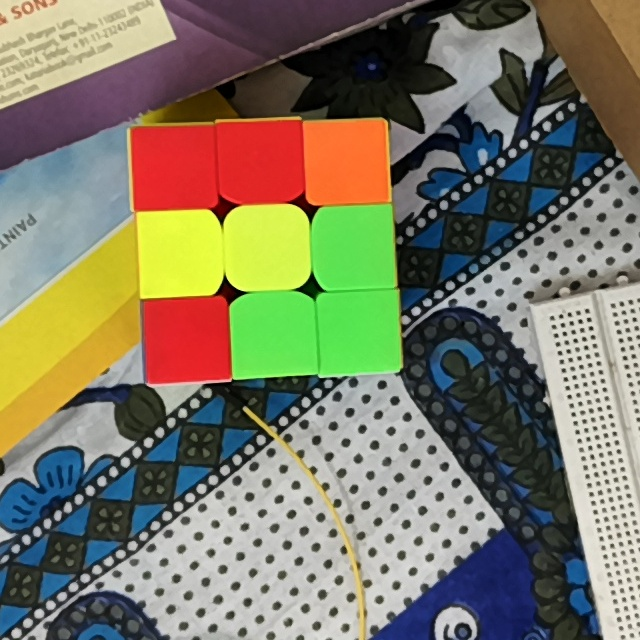tile: (143, 214, 216, 289), (136, 131, 212, 203), (149, 304, 222, 376), (312, 124, 382, 198), (237, 302, 312, 369), (325, 296, 395, 367), (223, 124, 295, 193), (233, 213, 301, 284), (321, 211, 389, 281)
